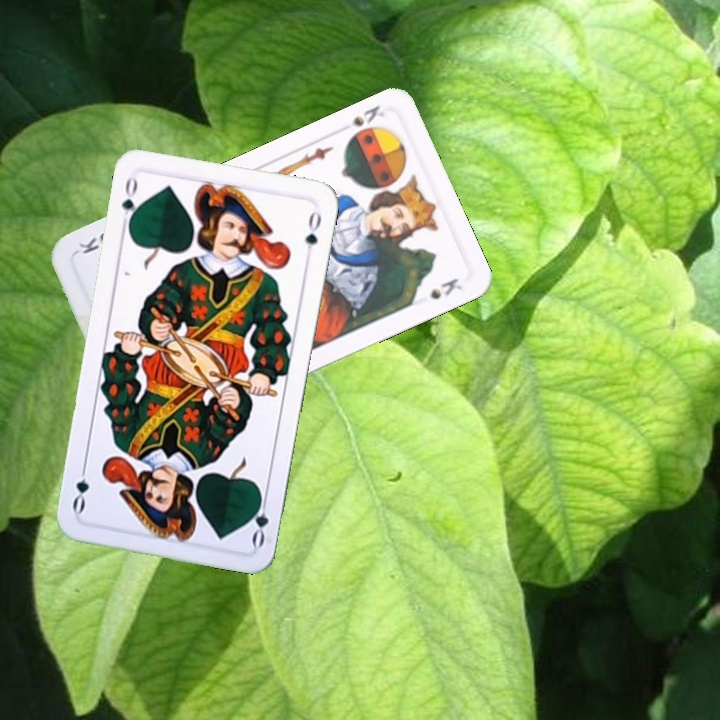GO: (117, 173, 143, 232), (247, 489, 271, 549)
SK: (348, 101, 386, 129)
